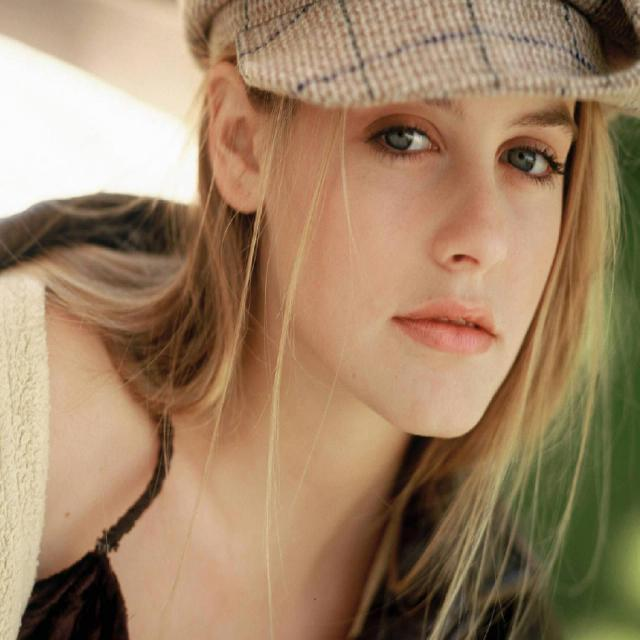no-earmuff: (188, 42, 282, 233)
